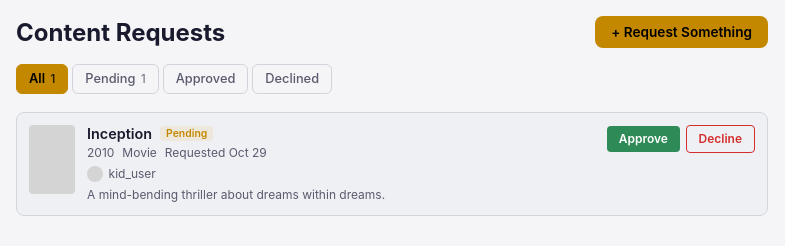
Test: Requests › shows filter-specific empty text
Click the button "Approved". click: (206, 79)
box: [163,64,248,94]
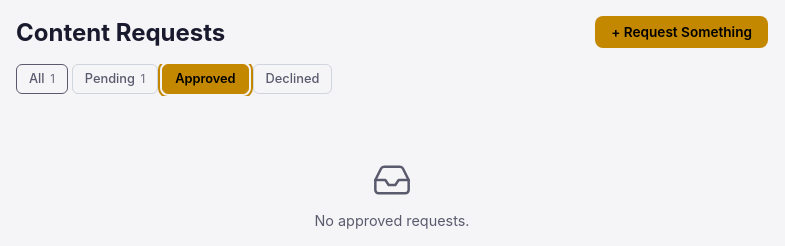
Expected: the text "No approved requests." is shown, [314,212,470,229]
